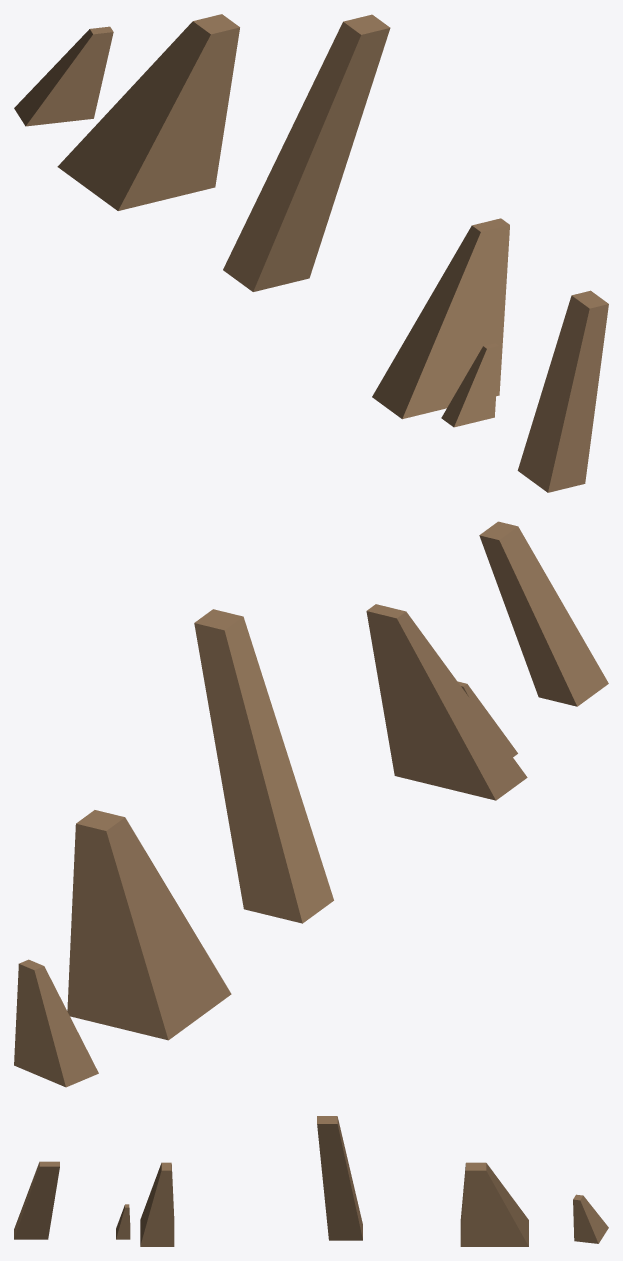
File: GROUP_NAROST.fbx
3 renders of one model, top to bottom at view 1: azimuth 30°, elevation 25°; view 2: azimuth 150°, elevation 25°; view 3: azimuth 270°, elevation 25°, orthographic. The views are drawn at different scales.
Parts seen in each view (by area): view 1: Group3, Group4, Group6, Group2, Group5, Group1; view 2: Group3, Group4, Group6, Group2, Group5; view 3: Group3, Group4, Group2, Group6, Group5, Group1.
Boxes of the visible parts, left/top/right/bottom form: Group3: left=57, top=14, right=239, bottom=210; Group4: left=223, top=14, right=390, bottom=291; Group6: left=372, top=218, right=509, bottom=419; Group2: left=517, top=290, right=608, bottom=492; Group5: left=14, top=26, right=113, bottom=126; Group1: left=441, top=343, right=499, bottom=427; Group3: left=67, top=810, right=231, bottom=1040; Group4: left=194, top=609, right=333, bottom=923; Group6: left=366, top=604, right=527, bottom=800; Group2: left=479, top=521, right=608, bottom=706; Group5: left=14, top=959, right=98, bottom=1087; Group3: left=460, top=1162, right=528, bottom=1246; Group4: left=317, top=1116, right=362, bottom=1240; Group2: left=14, top=1161, right=59, bottom=1239; Group6: left=140, top=1162, right=174, bottom=1246; Group5: left=573, top=1194, right=608, bottom=1243; Group1: left=116, top=1204, right=130, bottom=1239.
Size of the model in its own units: 0.7049 by 1.12 by 4.44.
